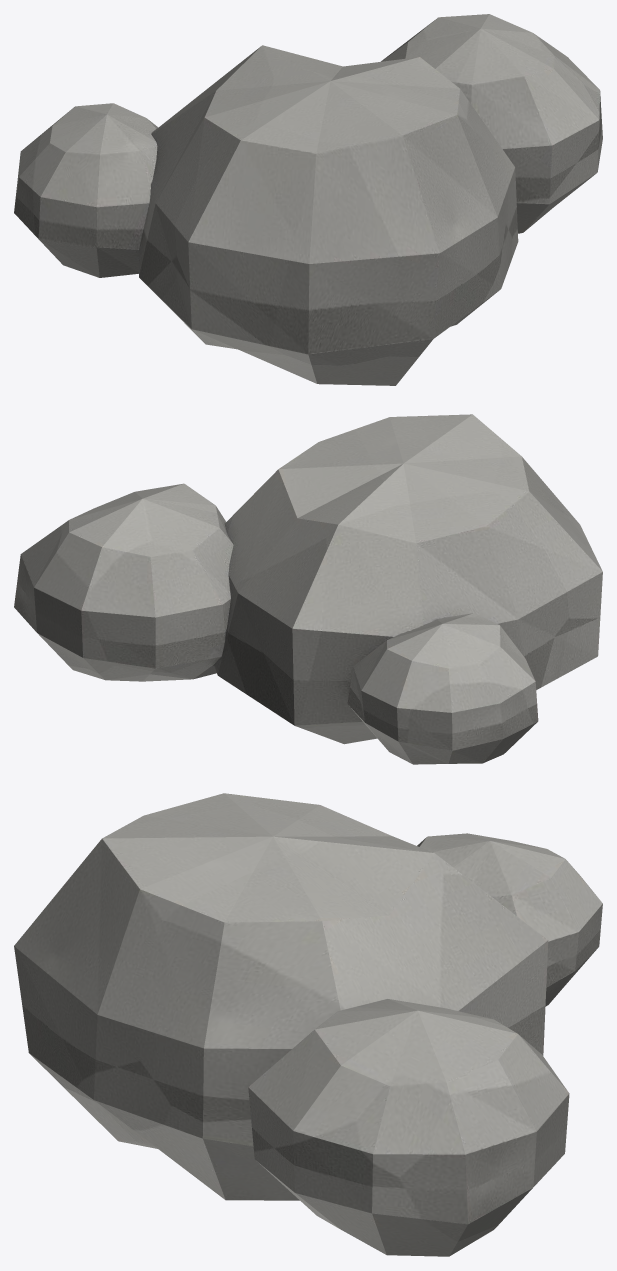
The model's file is p_felsen.glb.
3 views of the same model, one above another, from view 1: azimuth 30°, elevation 25°; view 2: azimuth 150°, elevation 25°; view 3: azimuth 270°, elevation 25° (orthographic). The views are drawn at different scales.
Visible parts, largest first — view 1: p_felsen; view 2: p_felsen; view 3: p_felsen.
Boxes of the visible parts, x1=… form: p_felsen: x1=14, y1=14, x2=602, y2=385; p_felsen: x1=14, y1=414, x2=602, y2=764; p_felsen: x1=14, y1=793, x2=602, y2=1256.
Bounding box in the file's own units: 0.2046 × 0.1021 × 0.1629.
1 material, 1 textured.
